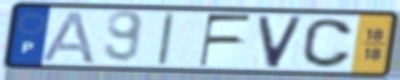9: (103, 9, 146, 68)
A: (38, 9, 97, 65)
C: (300, 17, 355, 70)
F: (197, 13, 255, 69)
I: (155, 11, 178, 68)
V: (255, 14, 306, 70)
